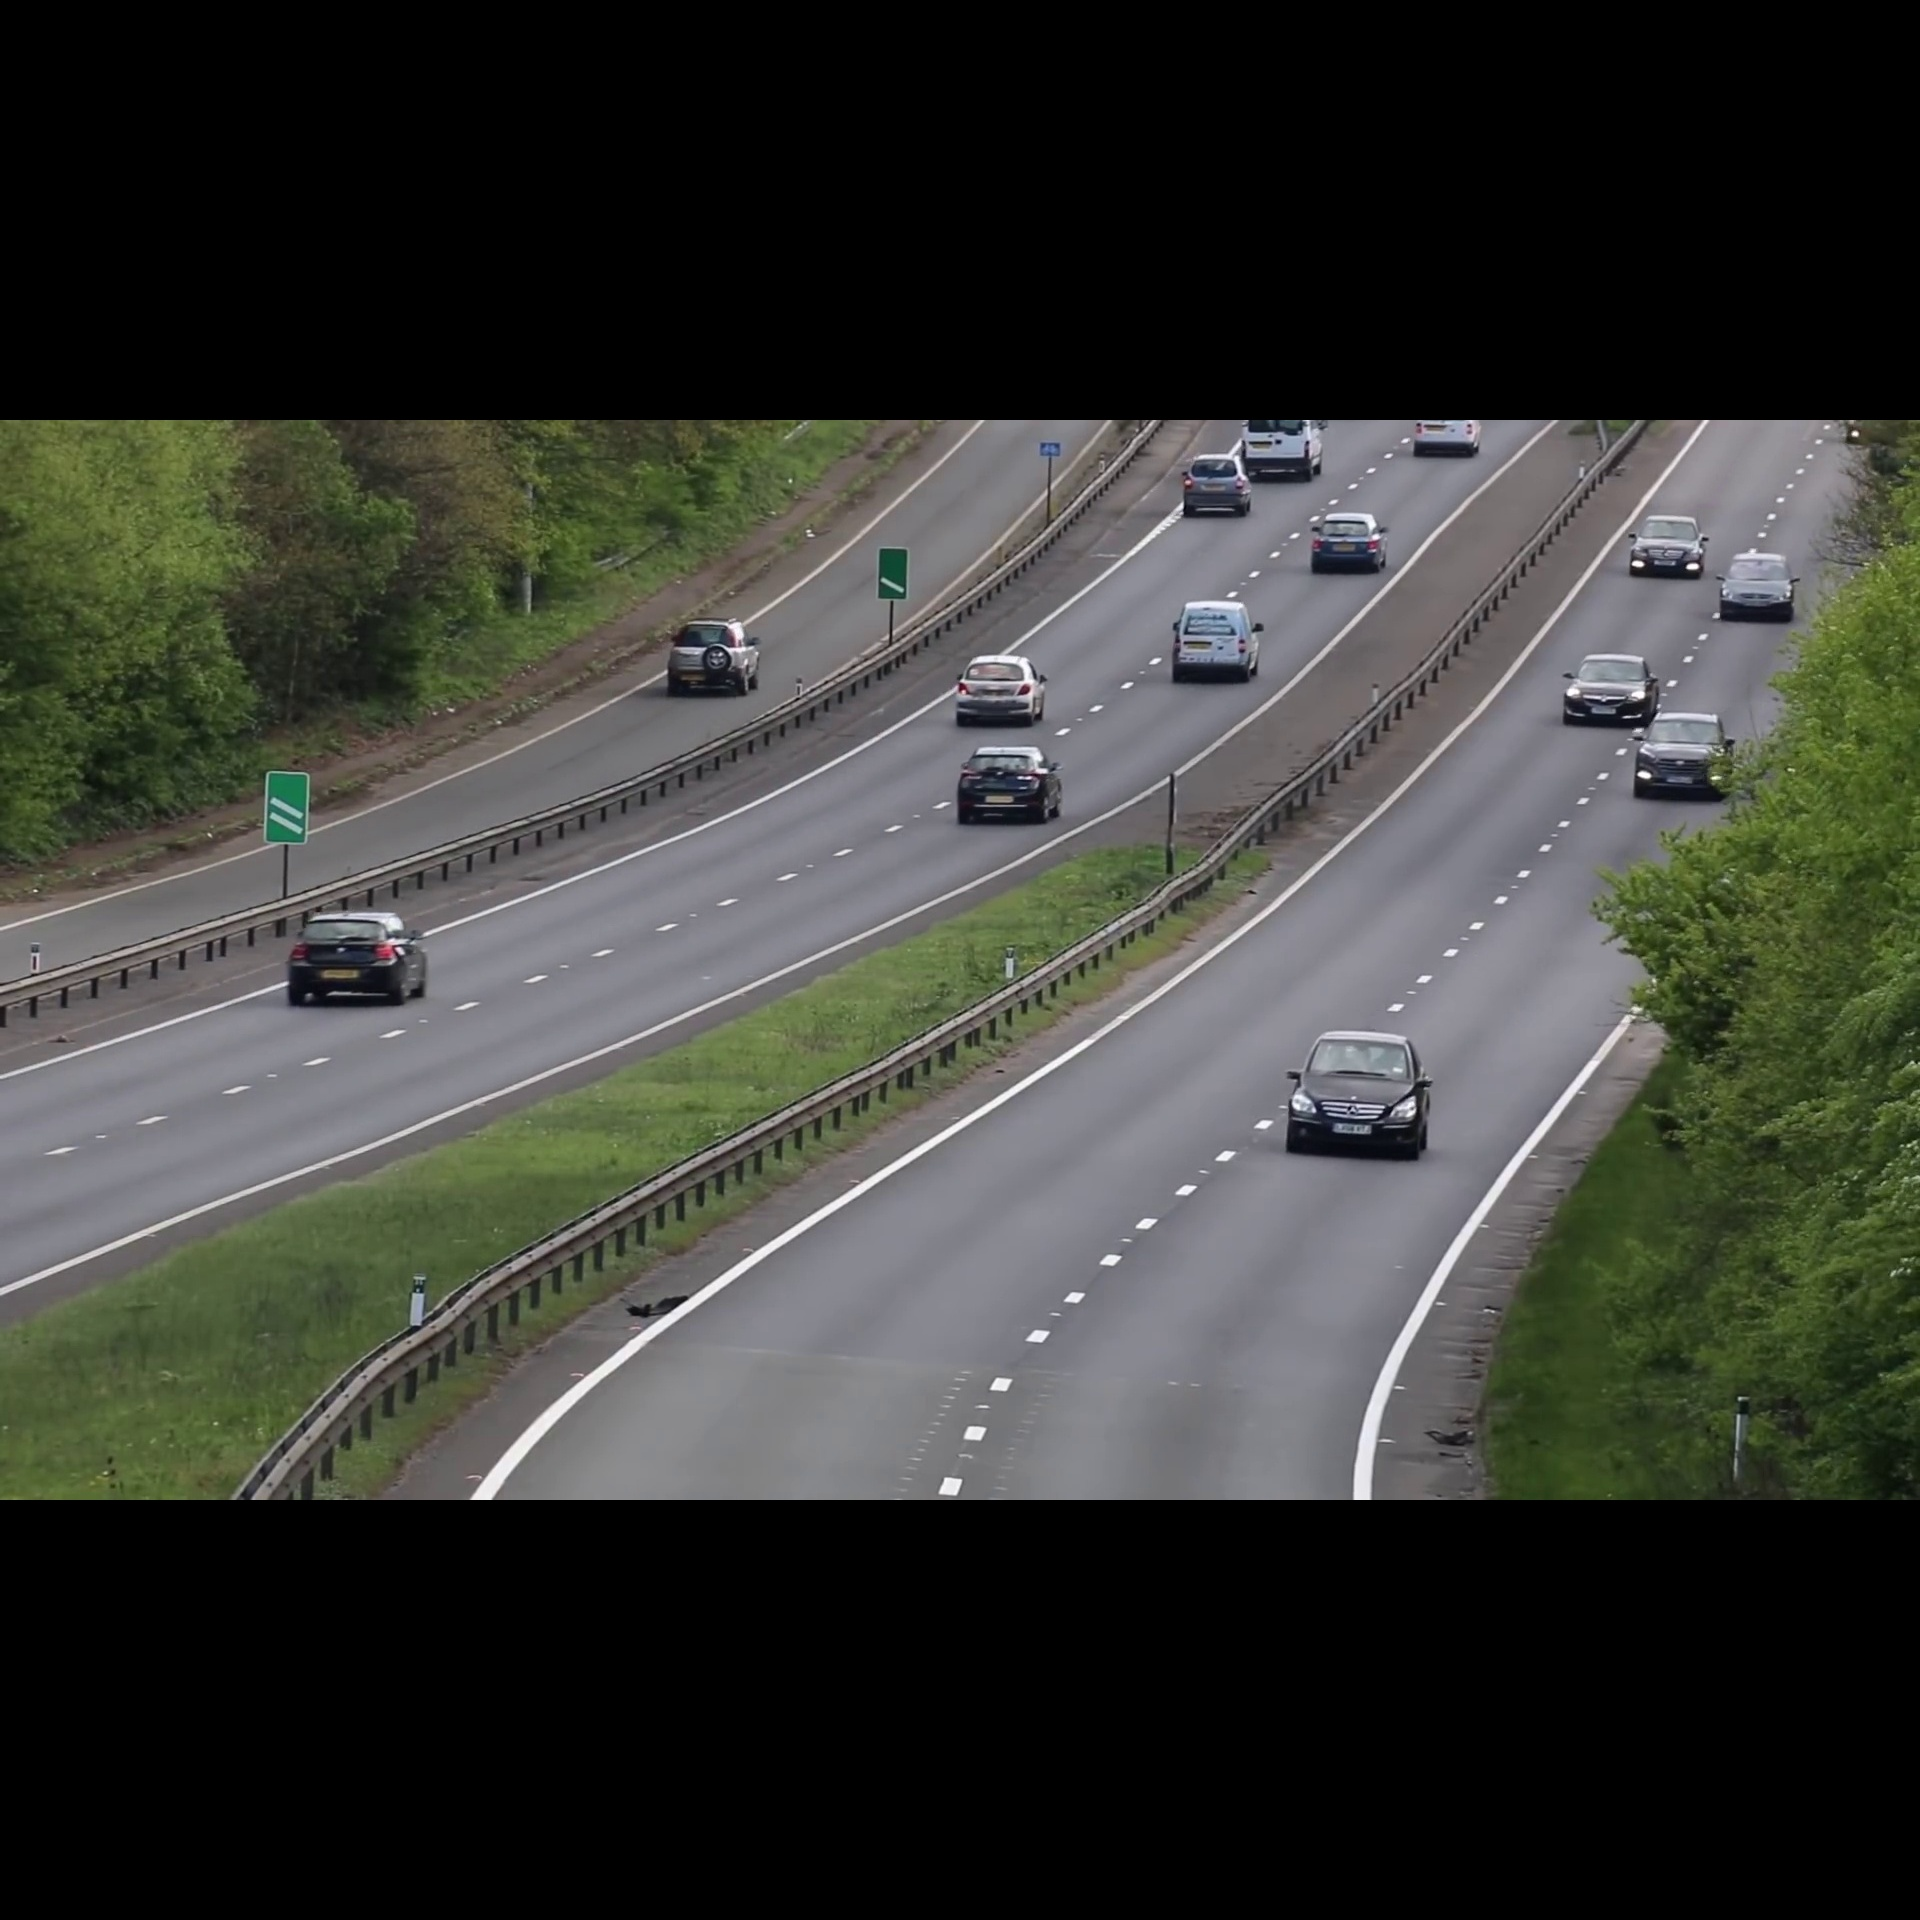vehicle: (1269, 1020, 1445, 1169), (278, 905, 436, 1013), (955, 740, 1071, 825), (1632, 710, 1739, 800), (665, 612, 768, 695), (1558, 645, 1658, 728), (1167, 596, 1264, 680), (951, 654, 1050, 731), (1714, 550, 1799, 628), (1625, 512, 1709, 582), (1240, 418, 1322, 485), (1306, 508, 1387, 575), (1180, 455, 1252, 515), (1408, 420, 1482, 464)
